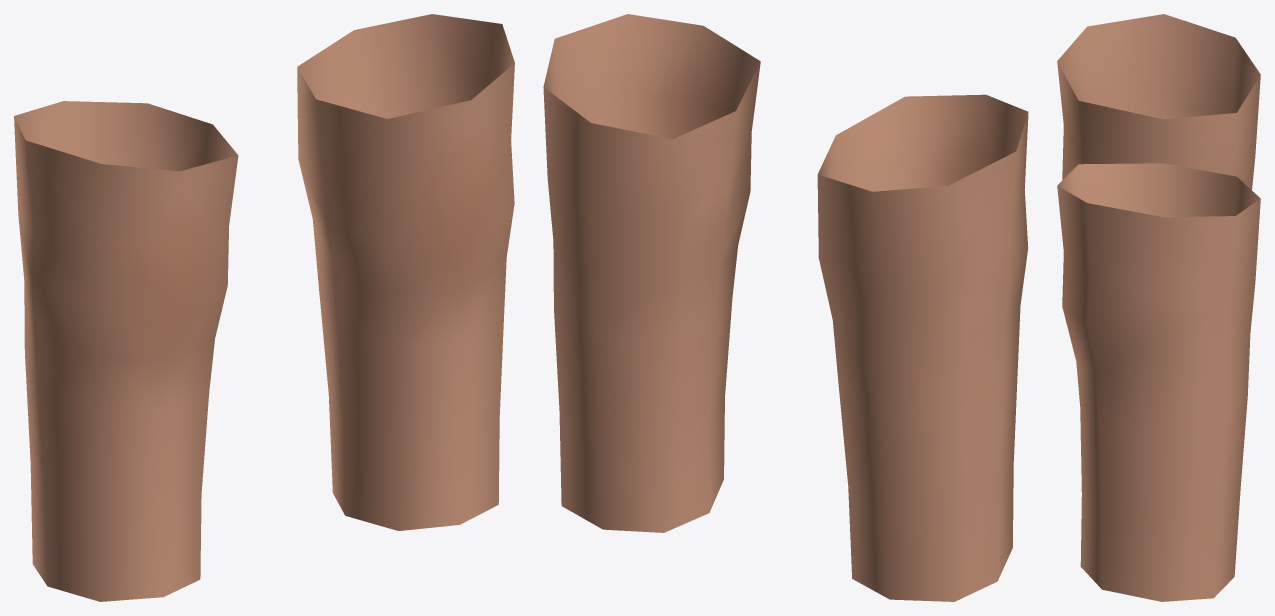
Rendered from Body_Yellow_LegB_2.fbx.
3 views of the same model, side by side, from view 1: azimuth 30°, elevation 25°; view 2: azimuth 150°, elevation 25°; view 3: azimuth 270°, elevation 25° (orthographic). The views are drawn at different scales.
Parts seen in each view (by area): view 1: Body_Yellow_LegB_2; view 2: Body_Yellow_LegB_2; view 3: Body_Yellow_LegB_2.
Part boxes in pixels (left/top/right/bottom): Body_Yellow_LegB_2: left=14, top=14, right=514, bottom=601; Body_Yellow_LegB_2: left=543, top=14, right=1028, bottom=601; Body_Yellow_LegB_2: left=1057, top=14, right=1260, bottom=601.
Size of the model in its own units: 32.69 by 29.91 by 13.84.
